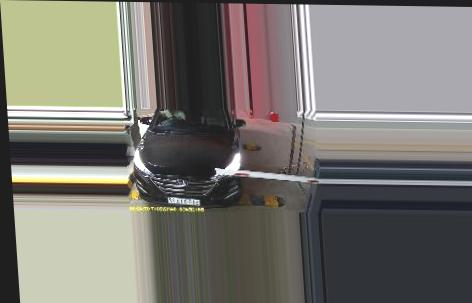License_Plate: (166, 194, 204, 206)
